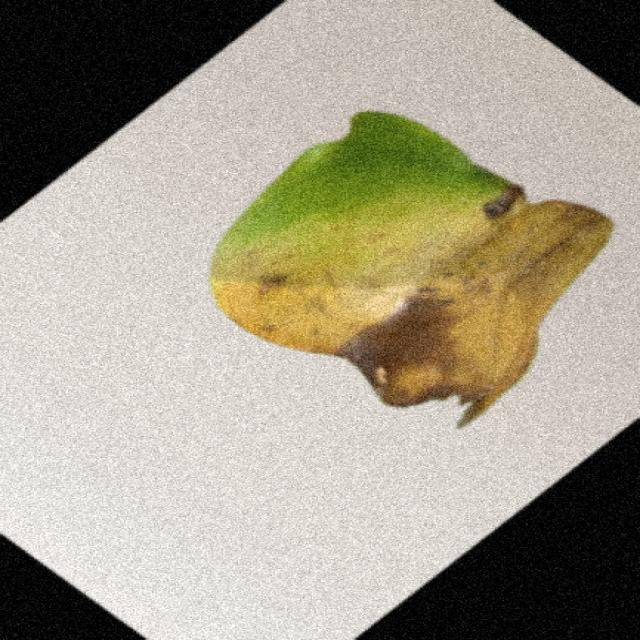daun berpenyakit kuning: (212, 111, 612, 426)
